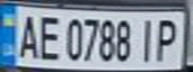0: (60, 15, 84, 62)
7: (81, 15, 100, 62)
8: (97, 16, 118, 63), (115, 16, 136, 63)
A: (12, 10, 42, 60)
E: (33, 11, 63, 62)
I: (136, 15, 160, 63)
P: (151, 15, 184, 63)
